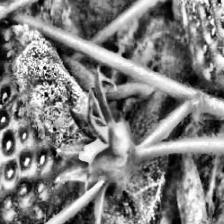Gray Mold: (0, 22, 90, 200)
